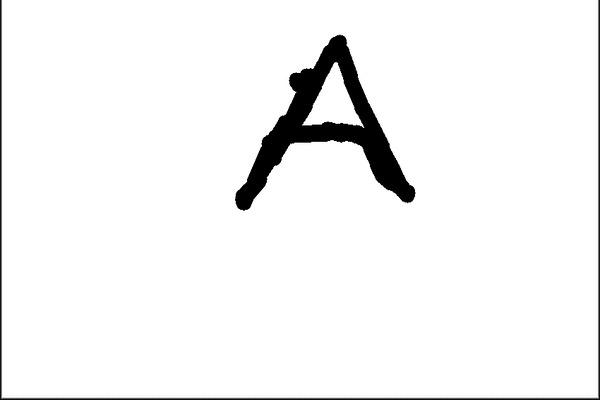A: (224, 28, 428, 210)
